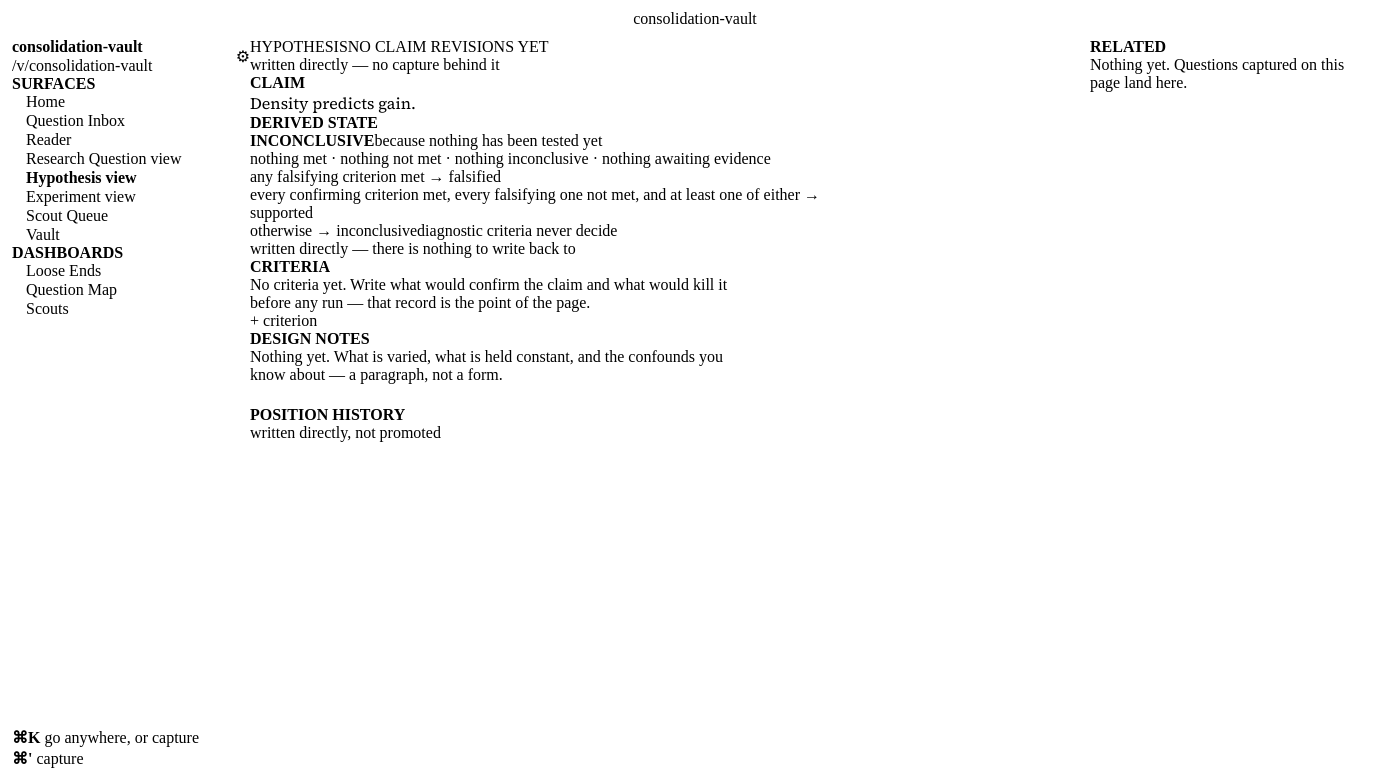
Test case: adding a criterion › esc closes the form and writes nothing
Click the button "+ criterion": (284, 321) [250, 312, 317, 330]
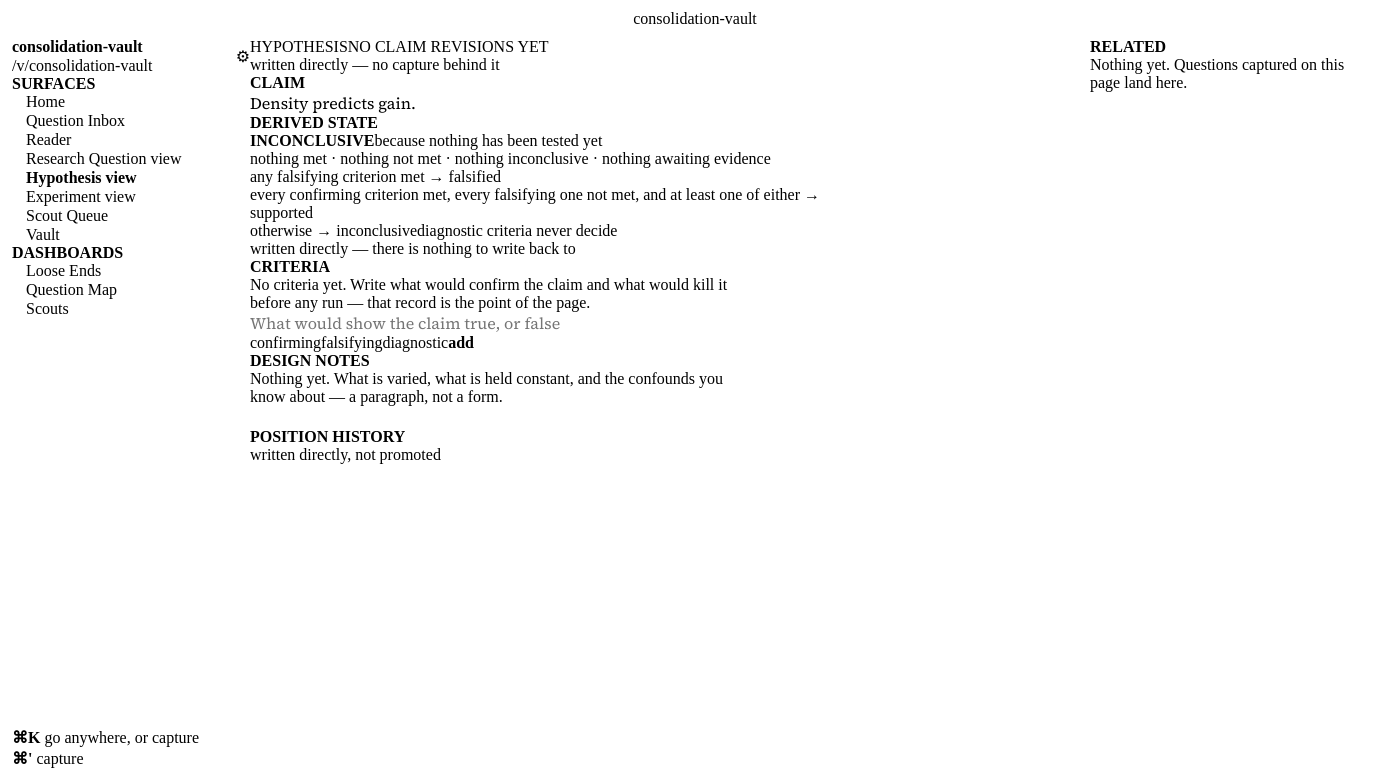
Press Escape in the field named "Criterion", box [250, 312, 826, 334]
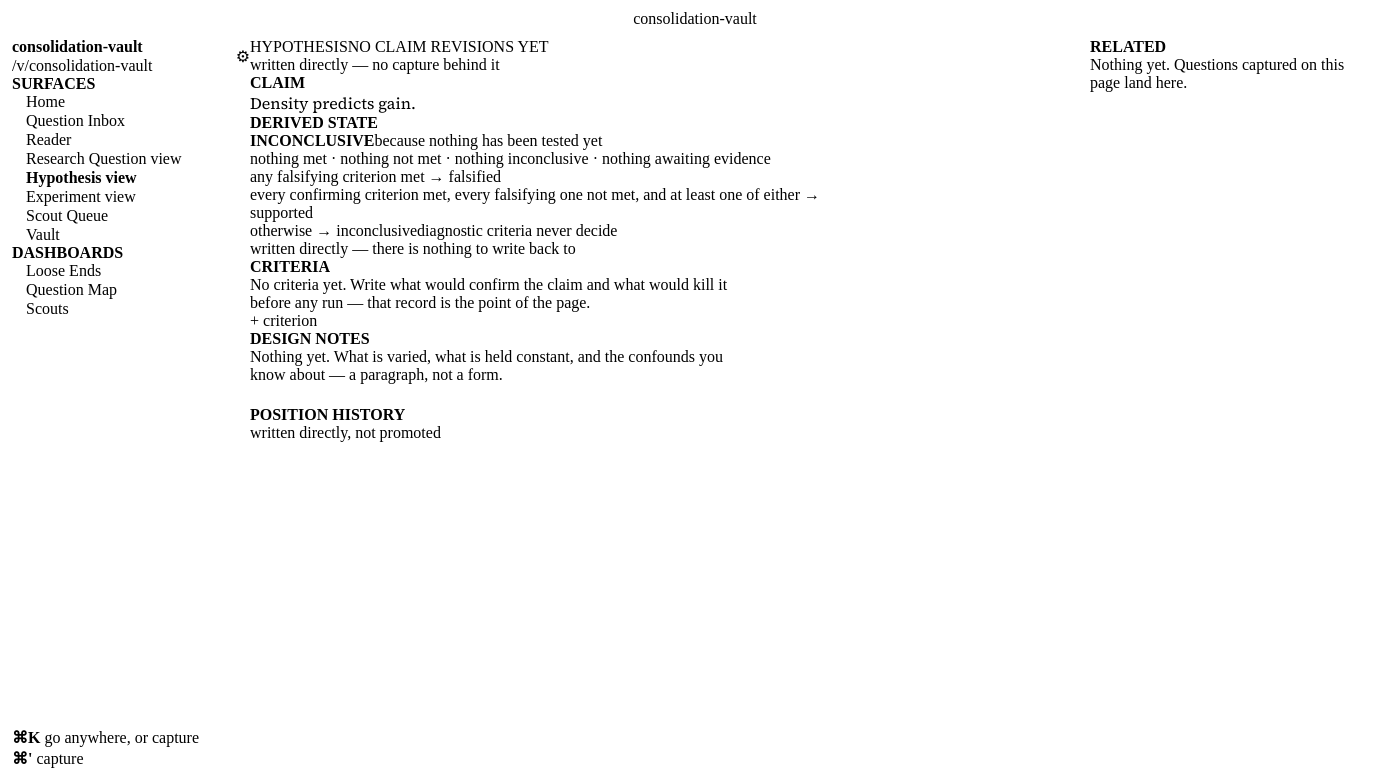
Check: the field labelled "New criterion" is gone
